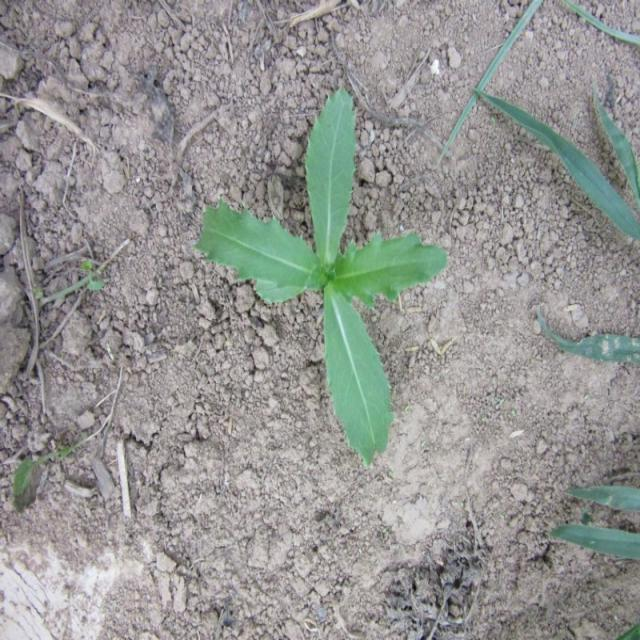cs: (191, 84, 449, 463)
